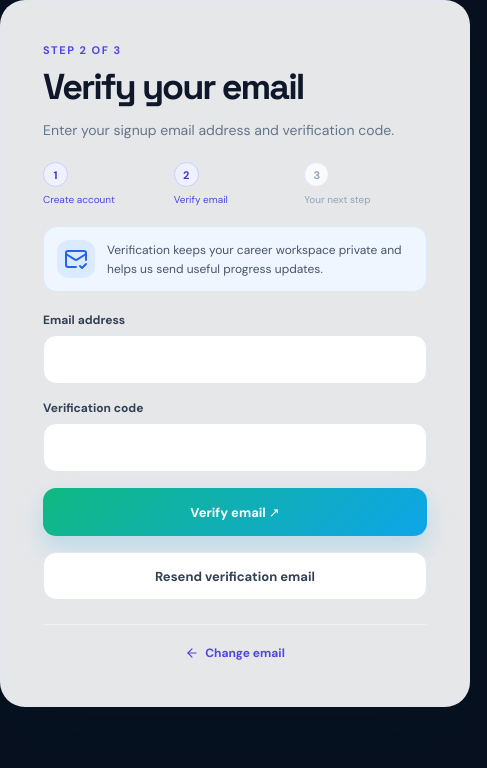
Test case: VerifyEmailPage › supports resending after opening the verify page without a saved email
Click the button "Resend verification email". click: x=235, y=576
box: [43,552,427,600]
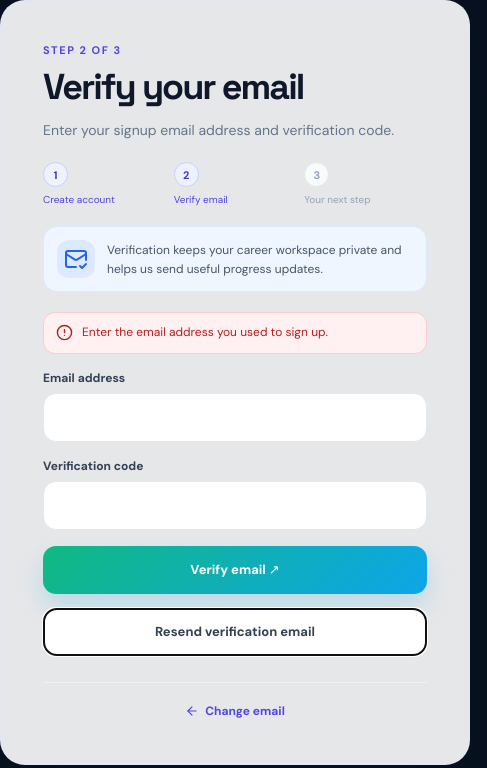
Check: the message reads "Enter the email address you used to sign up.", box [82,324,328,340]
Type "user@example.com" into the field labelled "Email address". click: x=235, y=417
box: [44,395,426,439]
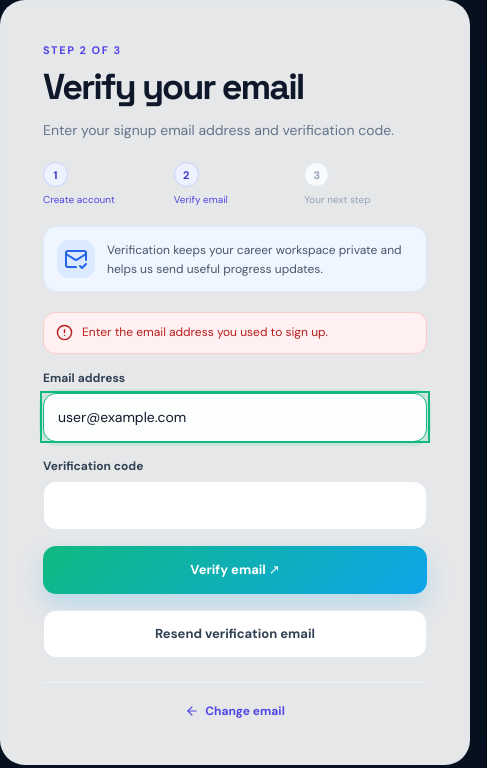
Click the button "Resend verification email". click: x=235, y=634
box: [43,610,427,658]
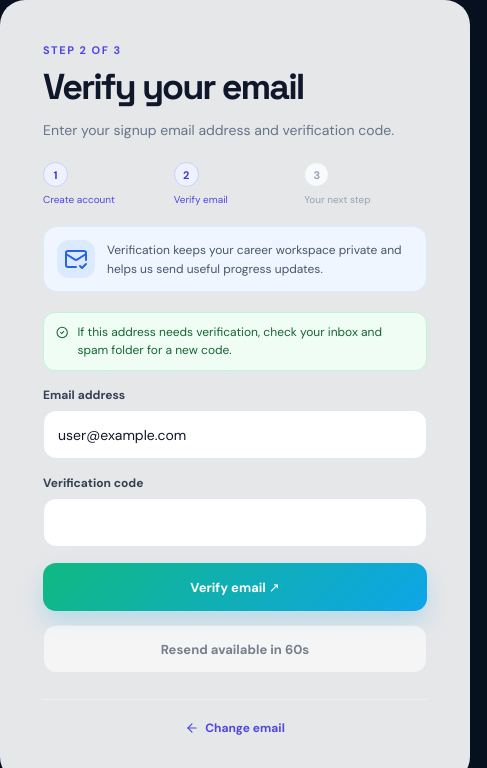
Check: the message is shown, box [43,312,427,371]
